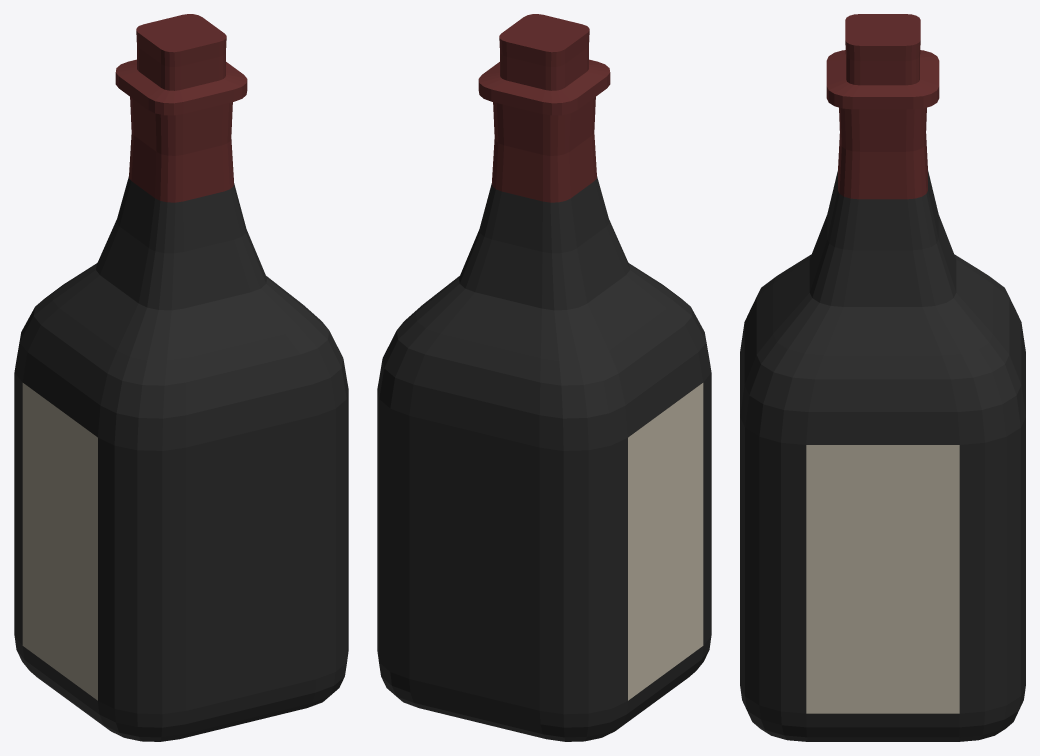
File: liquor4.fbx
3 renders of one model, left to right at view 1: azimuth 30°, elevation 25°; view 2: azimuth 150°, elevation 25°; view 3: azimuth 270°, elevation 25°, orthographic. The views are drawn at different scales.
Visible parts, largest first — view 1: Cube; view 2: Cube; view 3: Cube.
Boxes of the visible parts, left/top/right/bottom form: Cube: left=14, top=14, right=348, bottom=741; Cube: left=377, top=14, right=711, bottom=741; Cube: left=740, top=14, right=1025, bottom=741.
Size of the model in its own units: 200 by 511 by 200.
